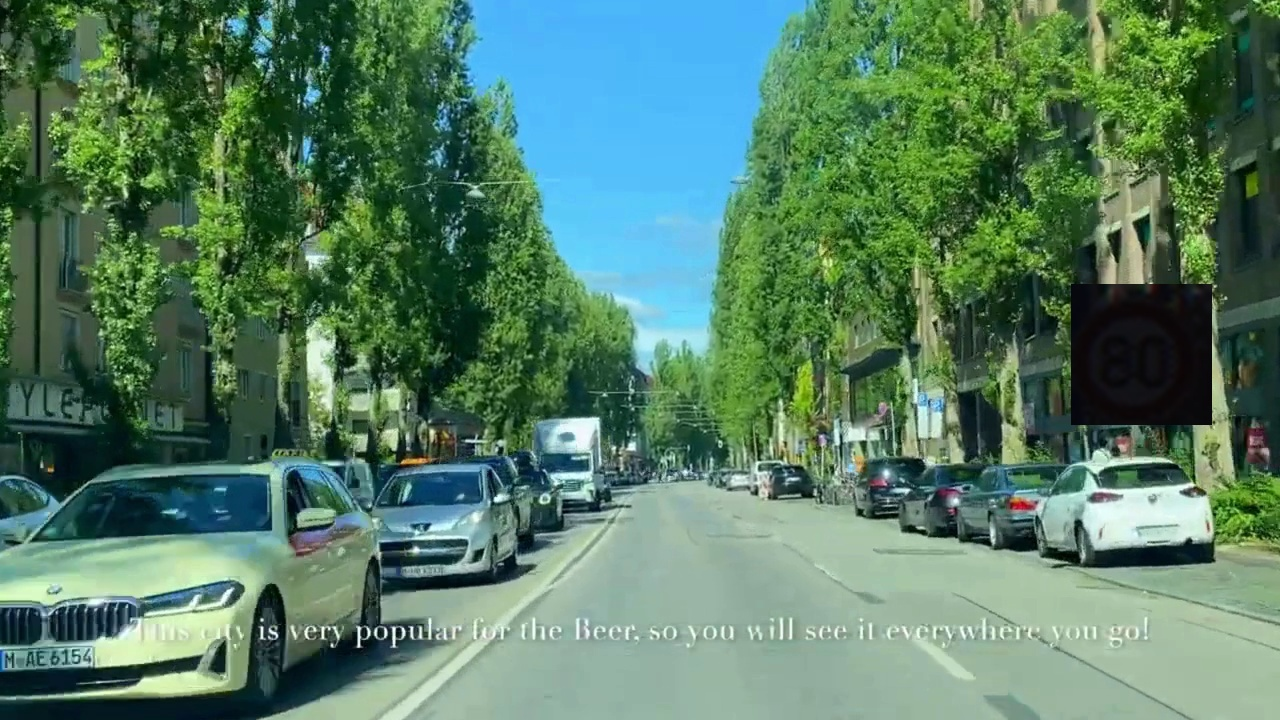Speed 80: (1071, 284, 1212, 425)
